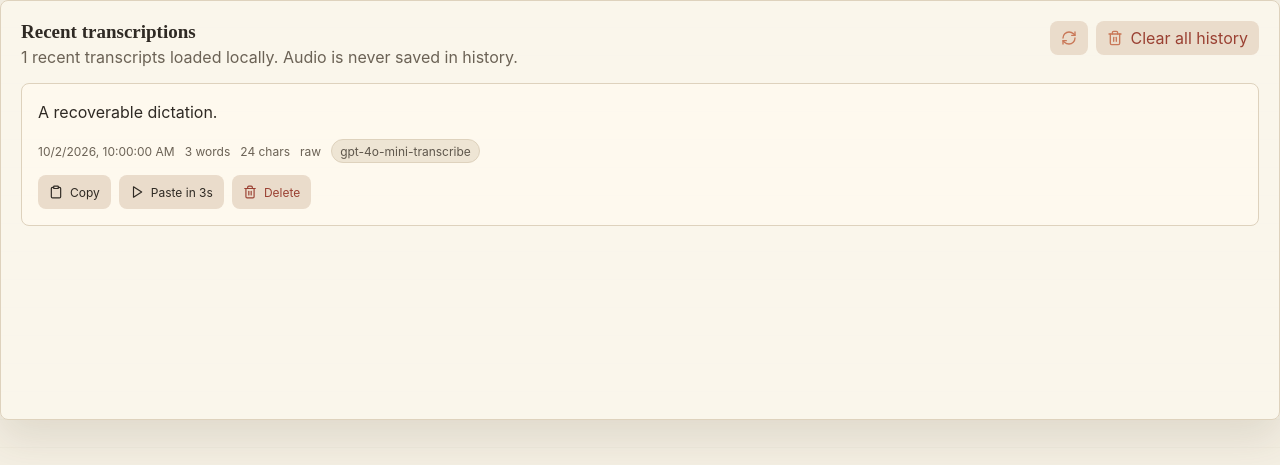
history deletion › retains the transcript and reports an individual deletion failure
The width and height of the screenshot is (1280, 465).
Click the button "Delete": (272, 192) [232,175,311,209]
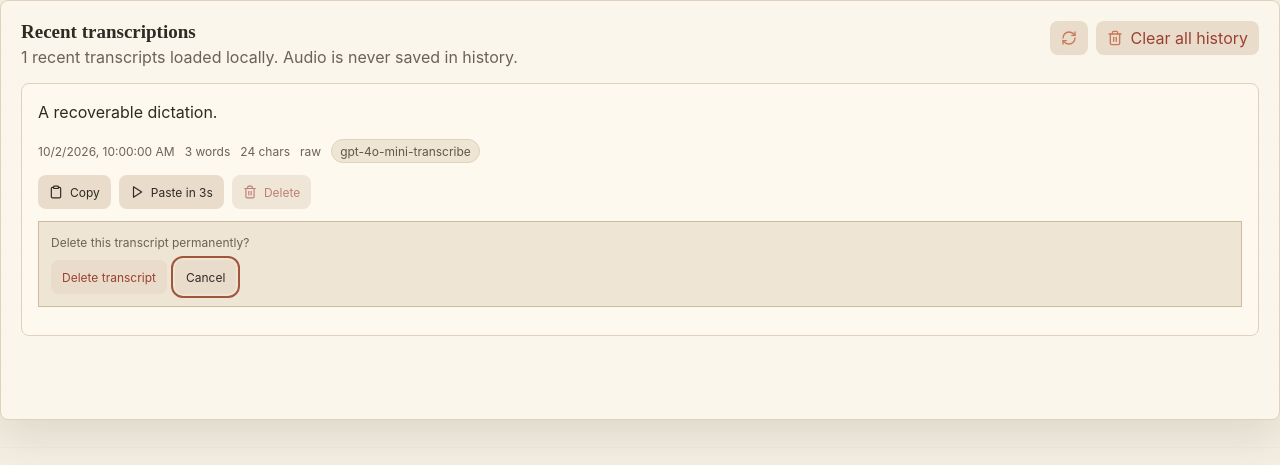
Click the button "Delete transcript": (109, 277) [51,260,167,294]
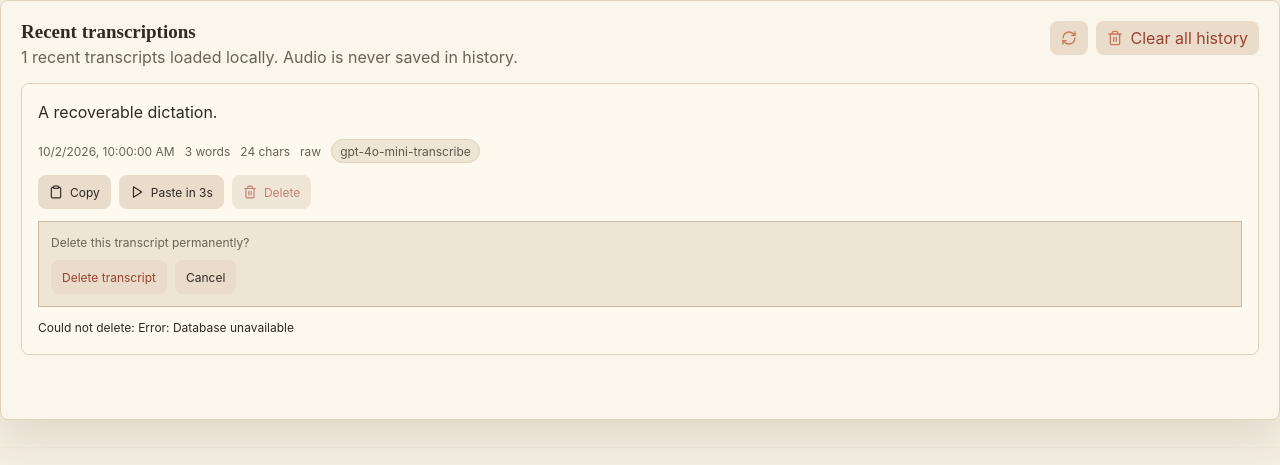
Expected: the text "A recoverable dictation." is shown, [38,102,217,122]
Result: the element named "Confirm transcript deletion" is shown at [38,221,1242,307]
Result: the message reads "Could not delete: Error: Database unavailable" at [38,320,294,335]
